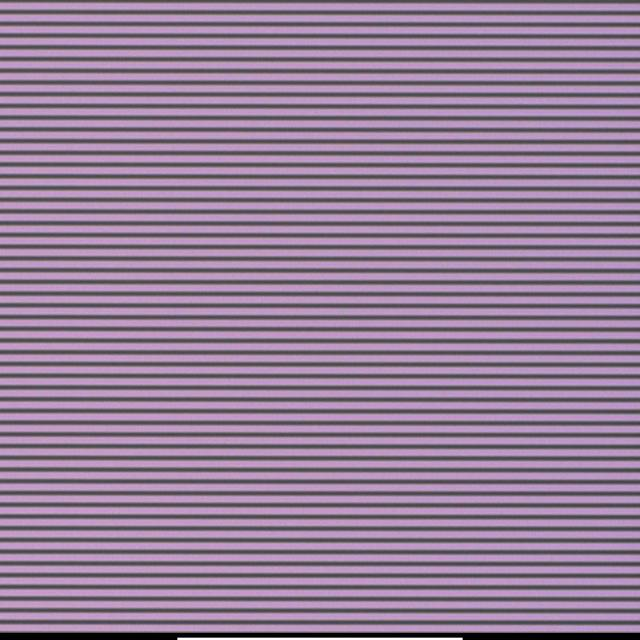nonvisual: (338, 304, 352, 318)
